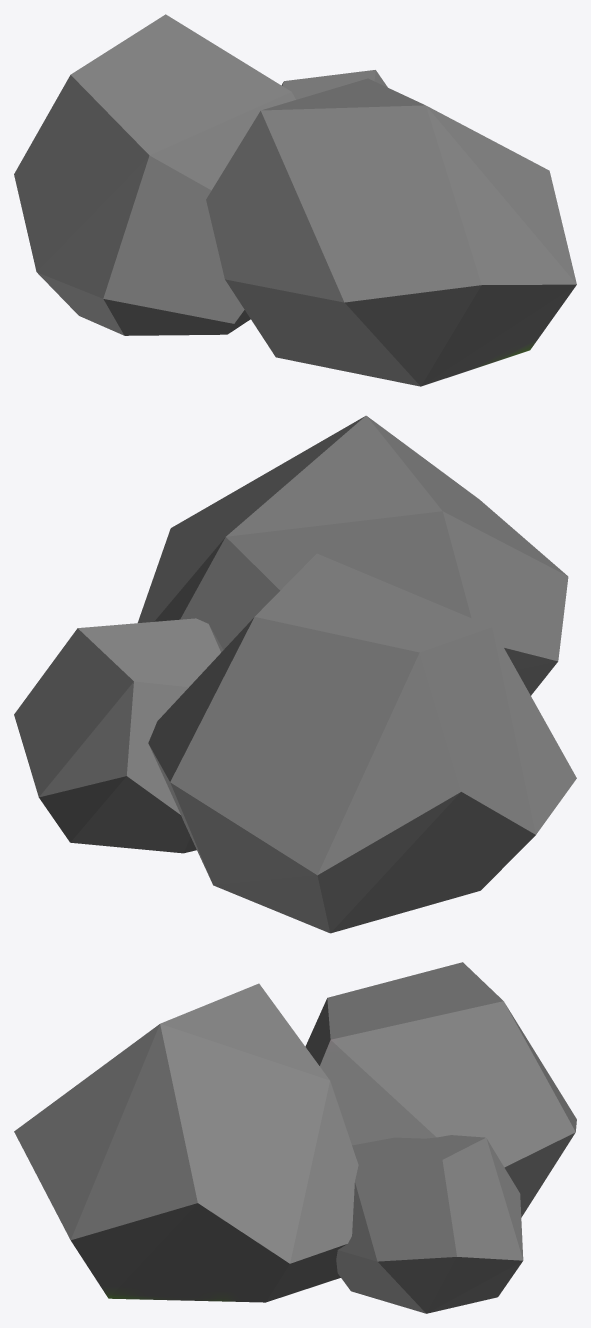
File: Pile_Rocks.fbx
3 views of the same model, one above another, from view 1: azimuth 30°, elevation 25°; view 2: azimuth 150°, elevation 25°; view 3: azimuth 270°, elevation 25° (orthographic). The views are drawn at different scales.
Parts seen in each view (by area): view 1: polySurface16; view 2: polySurface16; view 3: polySurface16.
Boxes of the visible parts, bbox=[...] form: polySurface16: bbox=[14, 14, 576, 386]; polySurface16: bbox=[14, 415, 576, 933]; polySurface16: bbox=[14, 962, 576, 1313].
Size of the model in its own units: 4.74 by 2.82 by 5.82.
1 material, 1 textured.
